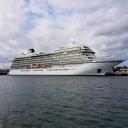cruises: (7, 42, 127, 78)
